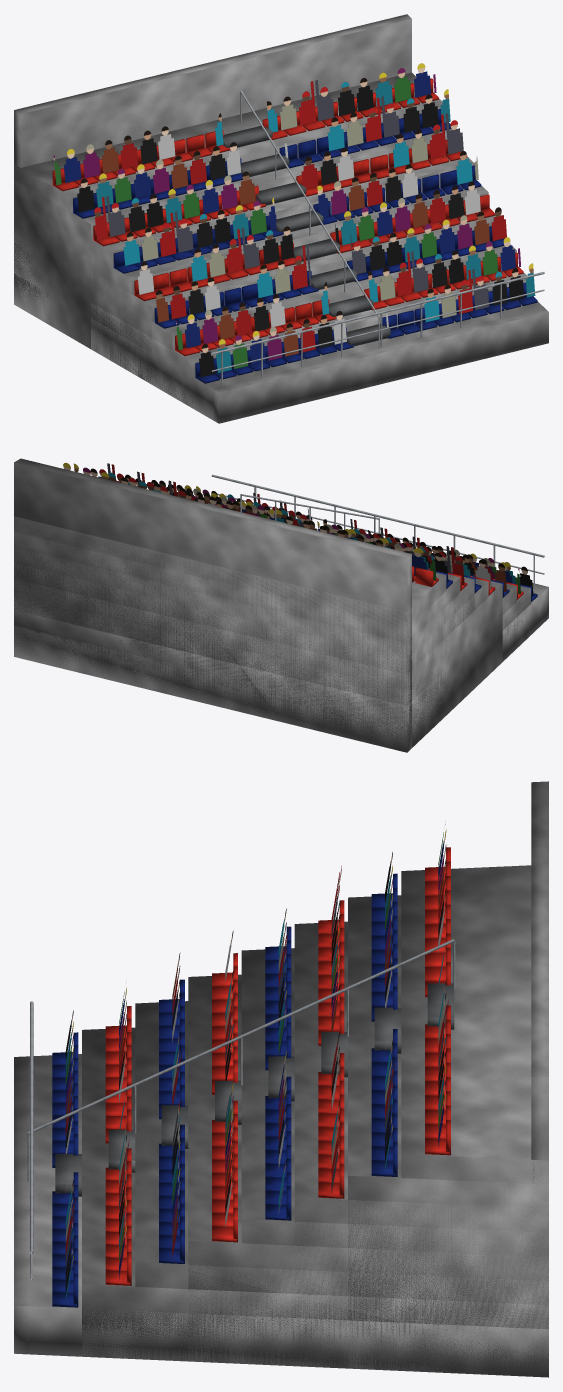
Rendered from bay_10m_curve12_crowd.glb.
The picture shows the model from 3 angles, top to bottom: view 1: azimuth 30°, elevation 25°; view 2: azimuth 150°, elevation 25°; view 3: azimuth 270°, elevation 25°; orthographic projection. The views are drawn at different scales.
Visible parts, largest first — view 1: bay_10m_curve12_crowd; view 2: bay_10m_curve12_crowd; view 3: bay_10m_curve12_crowd.
Part boxes in pixels (bbox=[...]): bay_10m_curve12_crowd: bbox=[14, 14, 548, 423]; bay_10m_curve12_crowd: bbox=[14, 458, 548, 752]; bay_10m_curve12_crowd: bbox=[14, 781, 548, 1377].
Bounding box in the file's own units: 11.85 × 5.6 × 9.05.
Materials: 6 (6 with a texture image).
